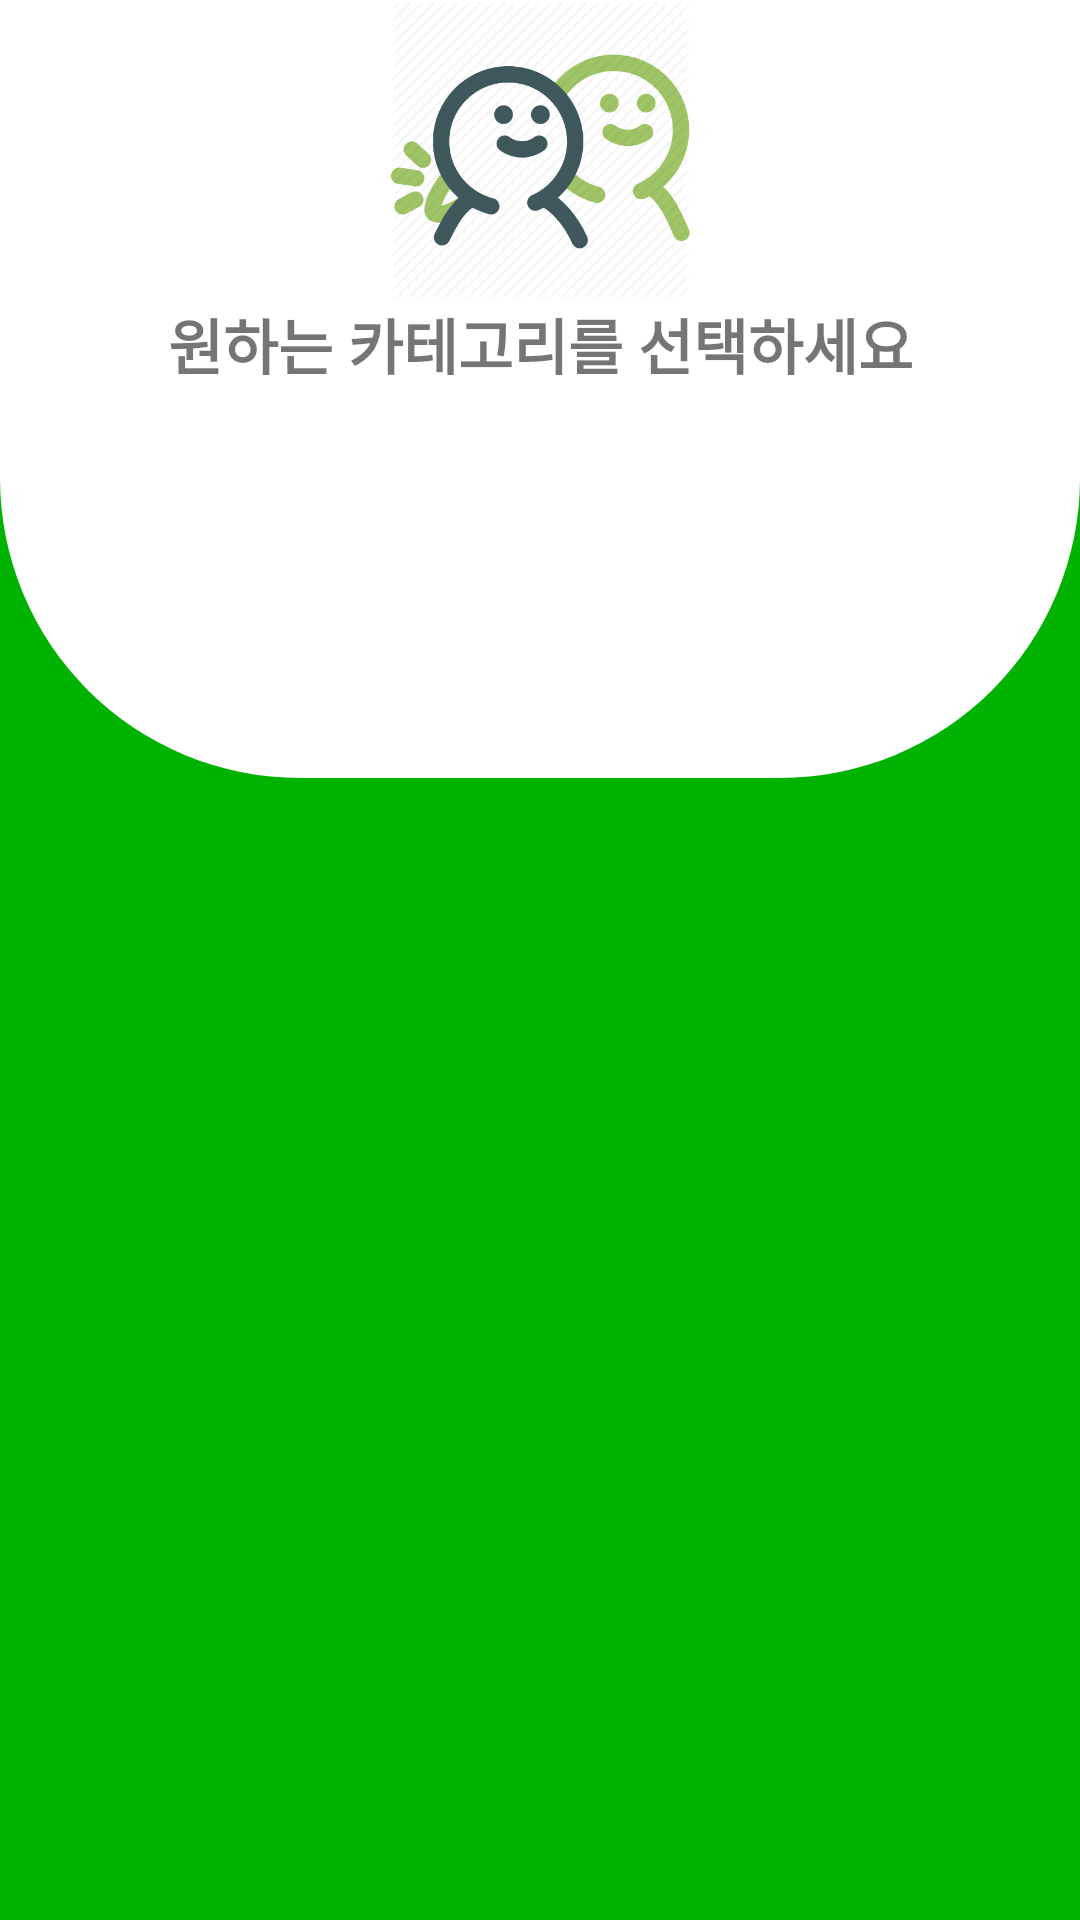

Icons on this 1080 × 1920 Android screen, each with its box as (x1, y1, x2, y2):
happy human: (391, 54, 690, 249)
